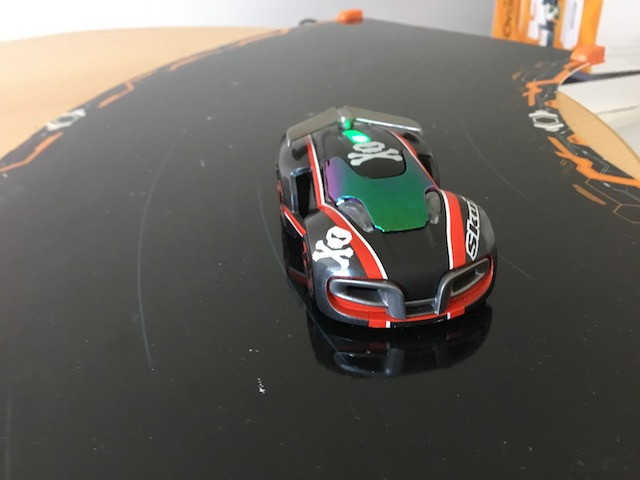car-red: (270, 102, 504, 337)
